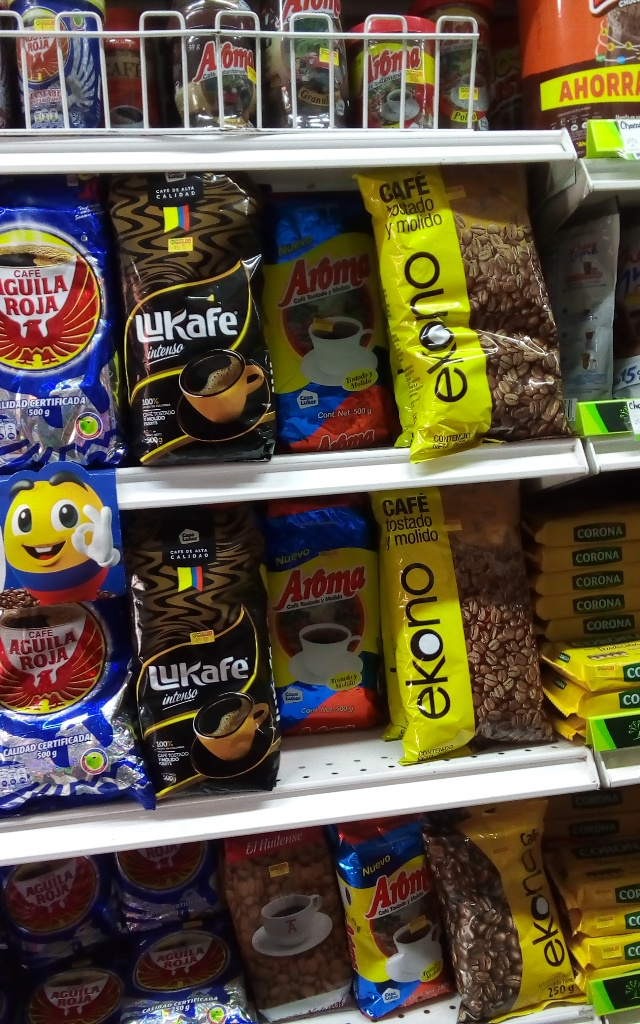COL0170103TRR00100: (512, 5, 634, 128)
